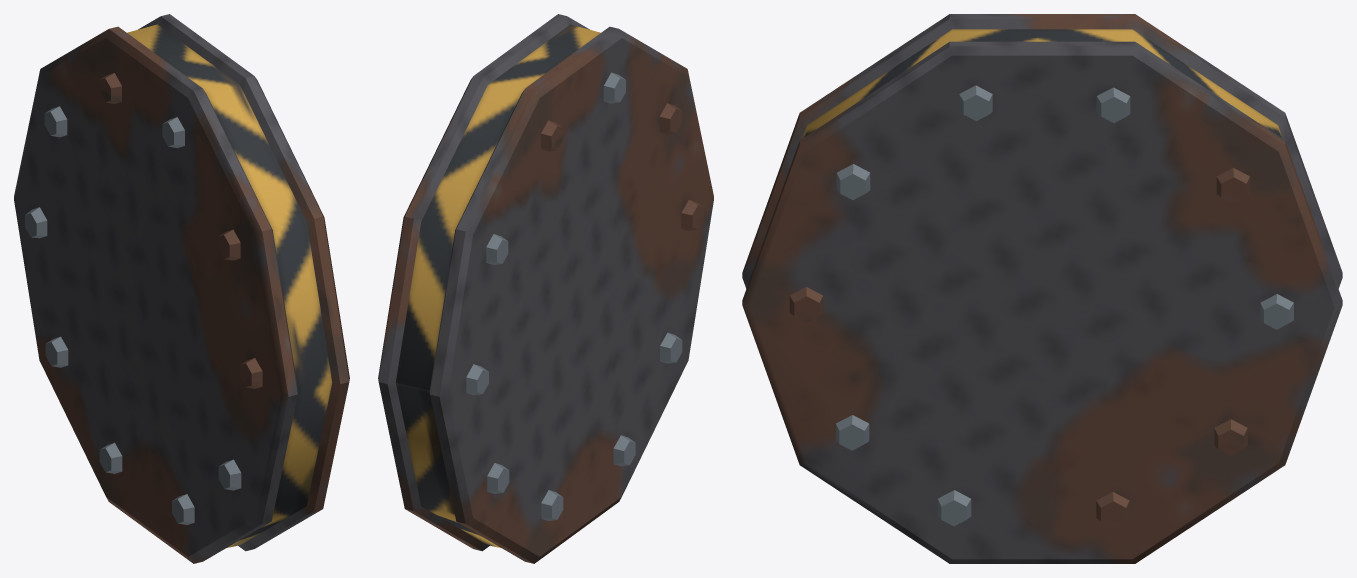
The model's file is SM_Prop_Pipe_Attatchment_Circle_End_01.fbx.
3 views of the same model, side by side, from view 1: azimuth 30°, elevation 25°; view 2: azimuth 150°, elevation 25°; view 3: azimuth 270°, elevation 25° (orthographic). The views are drawn at different scales.
Parts seen in each view (by area): view 1: SM_Prop_Pipe_Attatchment_Circle_End_01; view 2: SM_Prop_Pipe_Attatchment_Circle_End_01; view 3: SM_Prop_Pipe_Attatchment_Circle_End_01.
Part boxes in pixels (<box>): SM_Prop_Pipe_Attatchment_Circle_End_01: <box>14,14,349,563</box>; SM_Prop_Pipe_Attatchment_Circle_End_01: <box>378,14,713,563</box>; SM_Prop_Pipe_Attatchment_Circle_End_01: <box>742,14,1342,563</box>.
Size of the model in its own units: 30.28 by 154 by 162.
